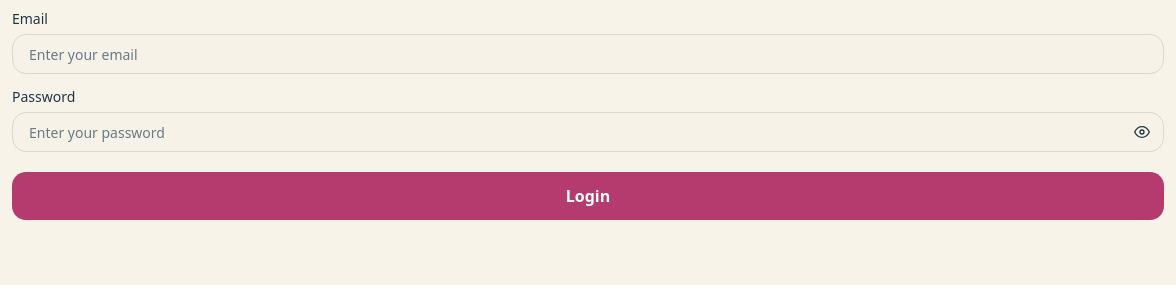
it: LoginForm › shows client validation before making a request
Click the button "Login" at (588, 196), box [12,172,1164,220]
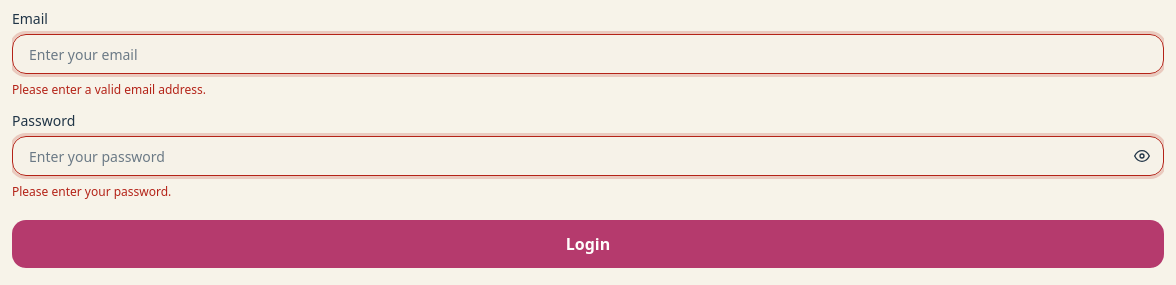
Expected: the message "Please enter a valid email address." is shown, [12,81,206,98]
